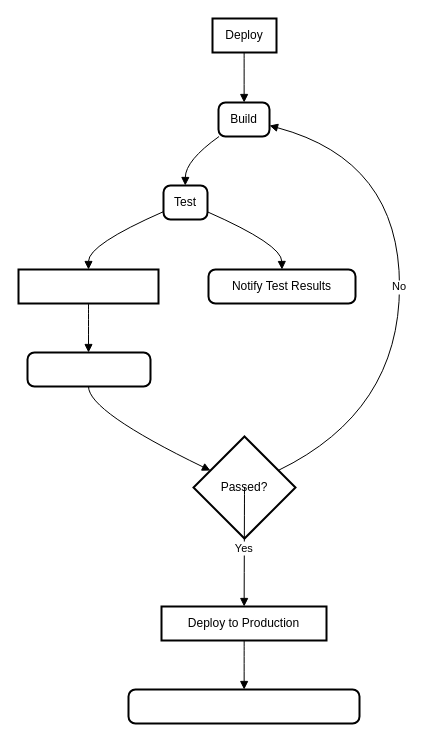
The diagram is 424 pixels wide and 741 high, and some of its shapes have lost their labels. The box of each missing label's shape, as (x1, y1, x2, y2) in pixels:
Deploy to Staging: (17, 268, 159, 304)
Notify Production Deployment: (127, 688, 360, 724)
Test on Staging: (26, 351, 151, 387)
